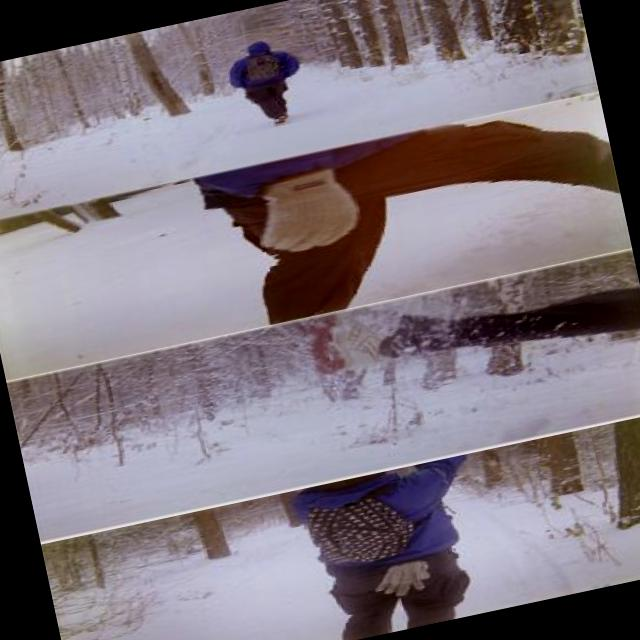Person: (220, 32, 314, 134)
